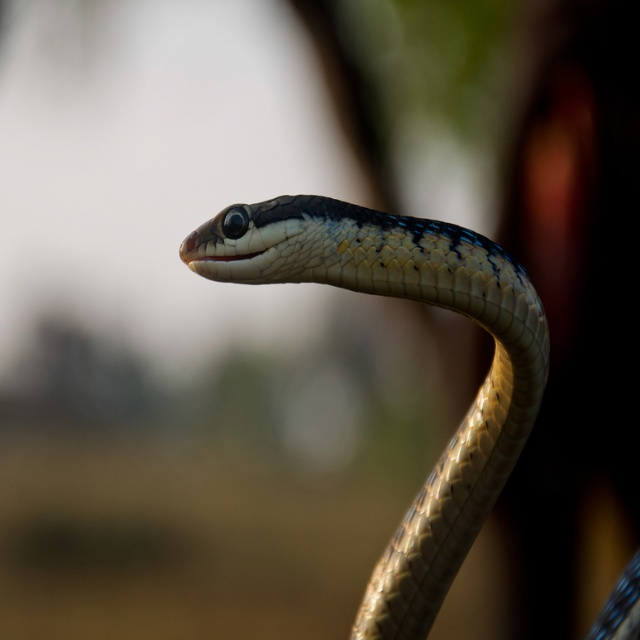Snake: (178, 189, 640, 639)
